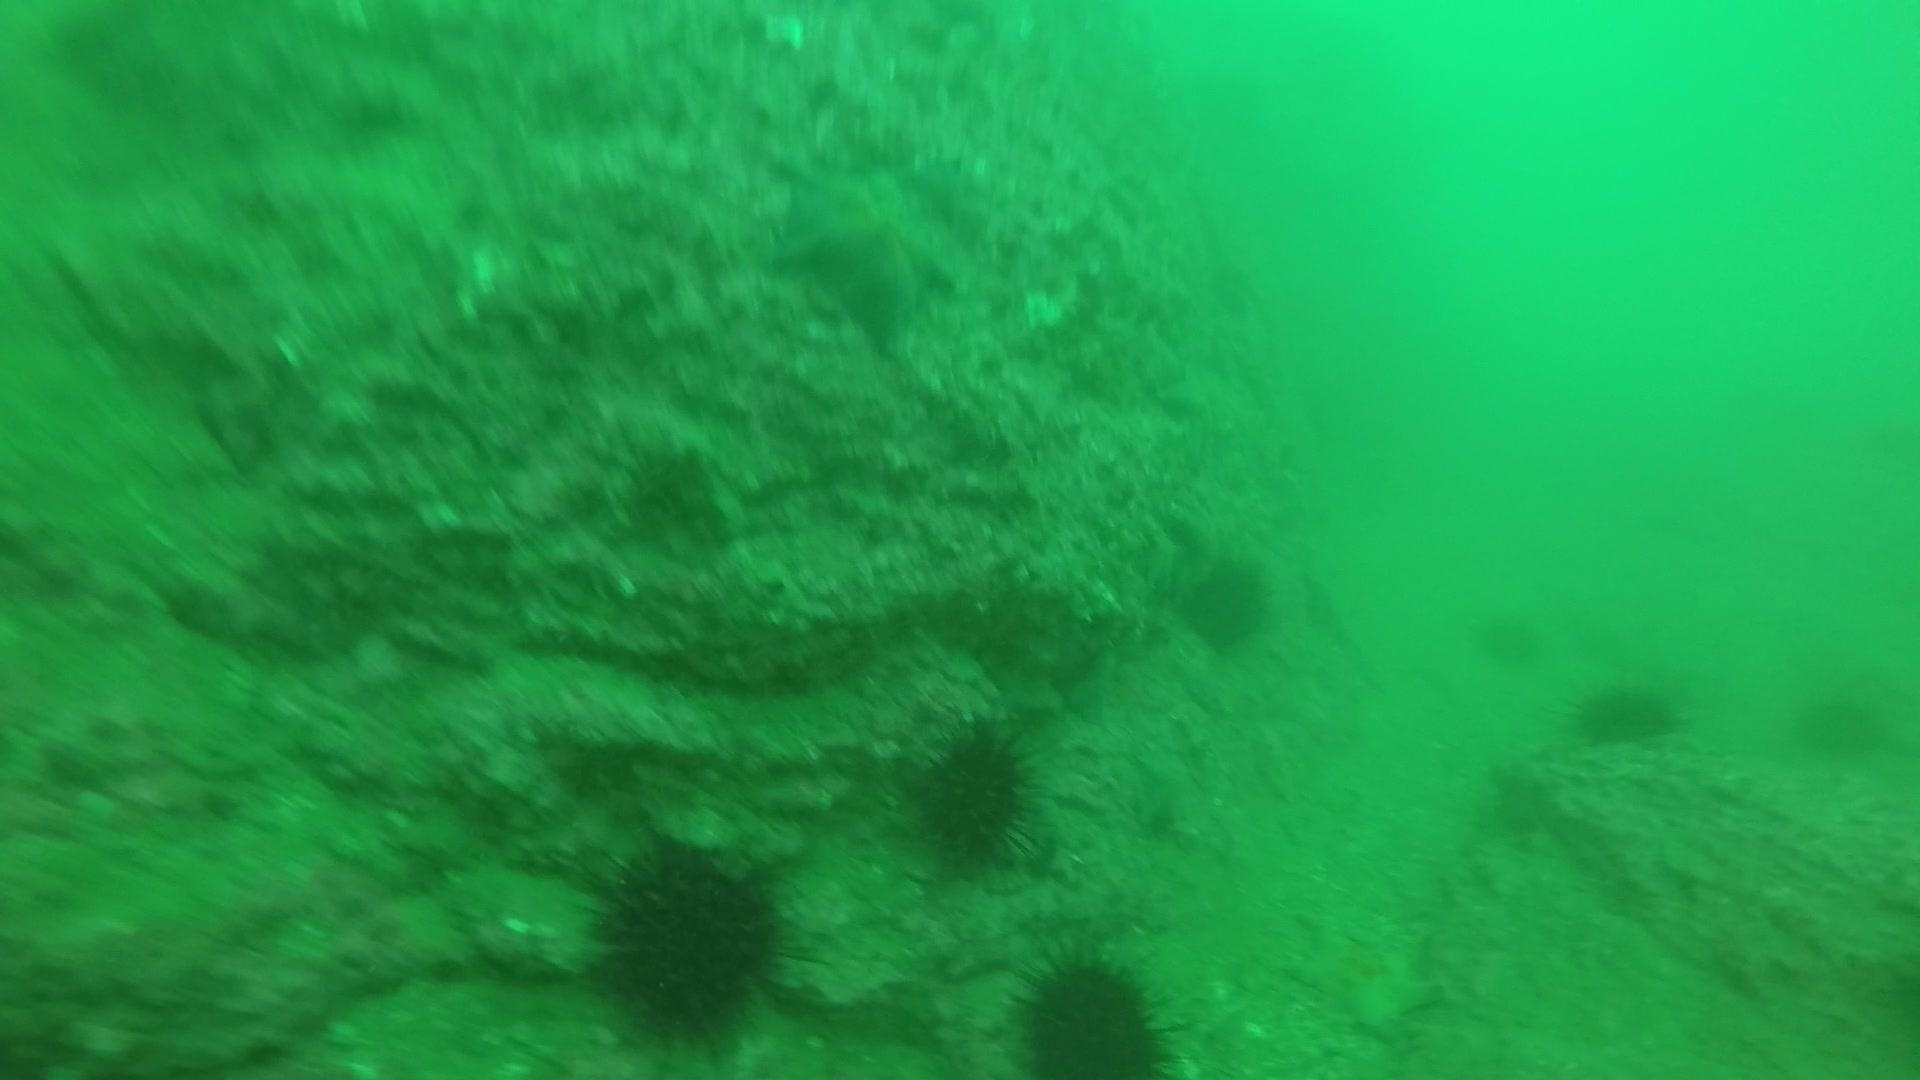echinus: (574, 829, 804, 1052), (1002, 943, 1182, 1077), (905, 712, 1048, 873), (1172, 549, 1276, 654), (1567, 673, 1685, 753), (1788, 675, 1894, 765), (1469, 601, 1547, 670)
starfish: (762, 145, 975, 343), (1280, 909, 1445, 1038)
